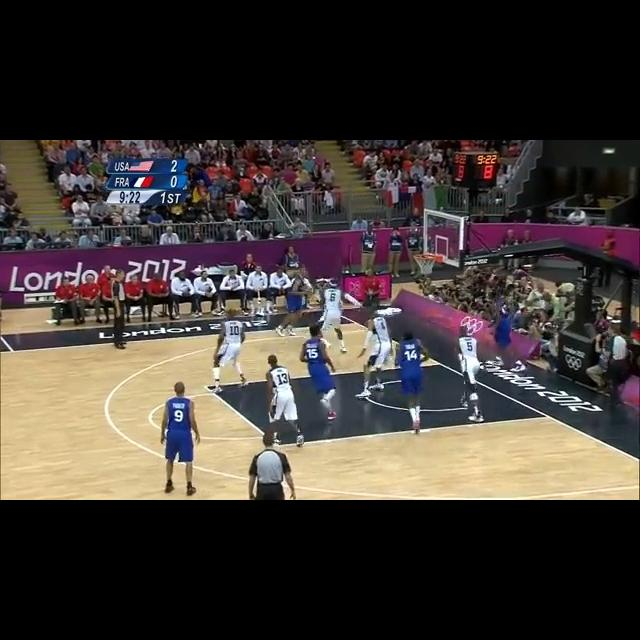hoop: (415, 252, 438, 276)
person: (162, 381, 203, 495), (264, 355, 305, 447), (248, 430, 299, 500), (301, 322, 338, 415), (49, 273, 83, 325), (76, 272, 101, 325), (90, 191, 112, 225), (158, 225, 182, 245)
